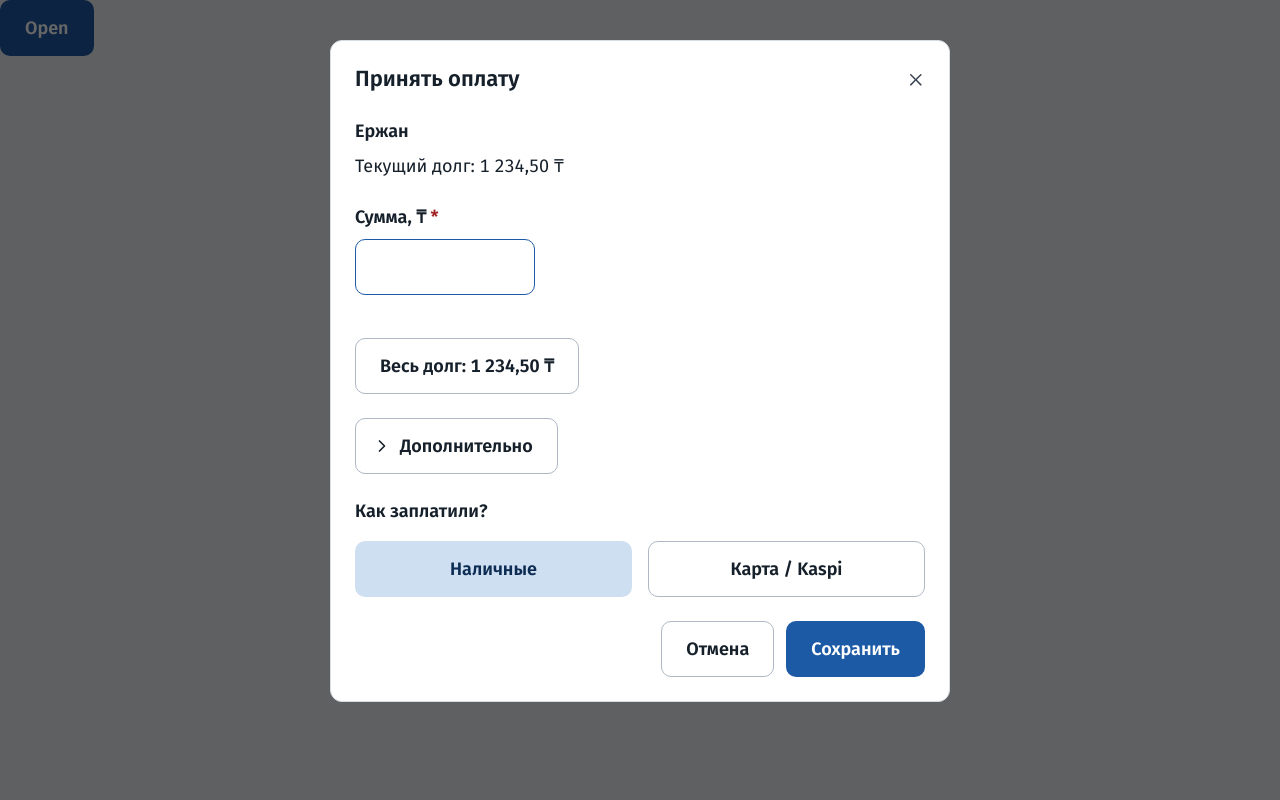
Test: PaymentModal › focuses the amount and fills the whole debt including tiyn
Step 1. Click the button "Весь долг: 1 234,50 ₸" → (467, 366), box [355,338,579,394]
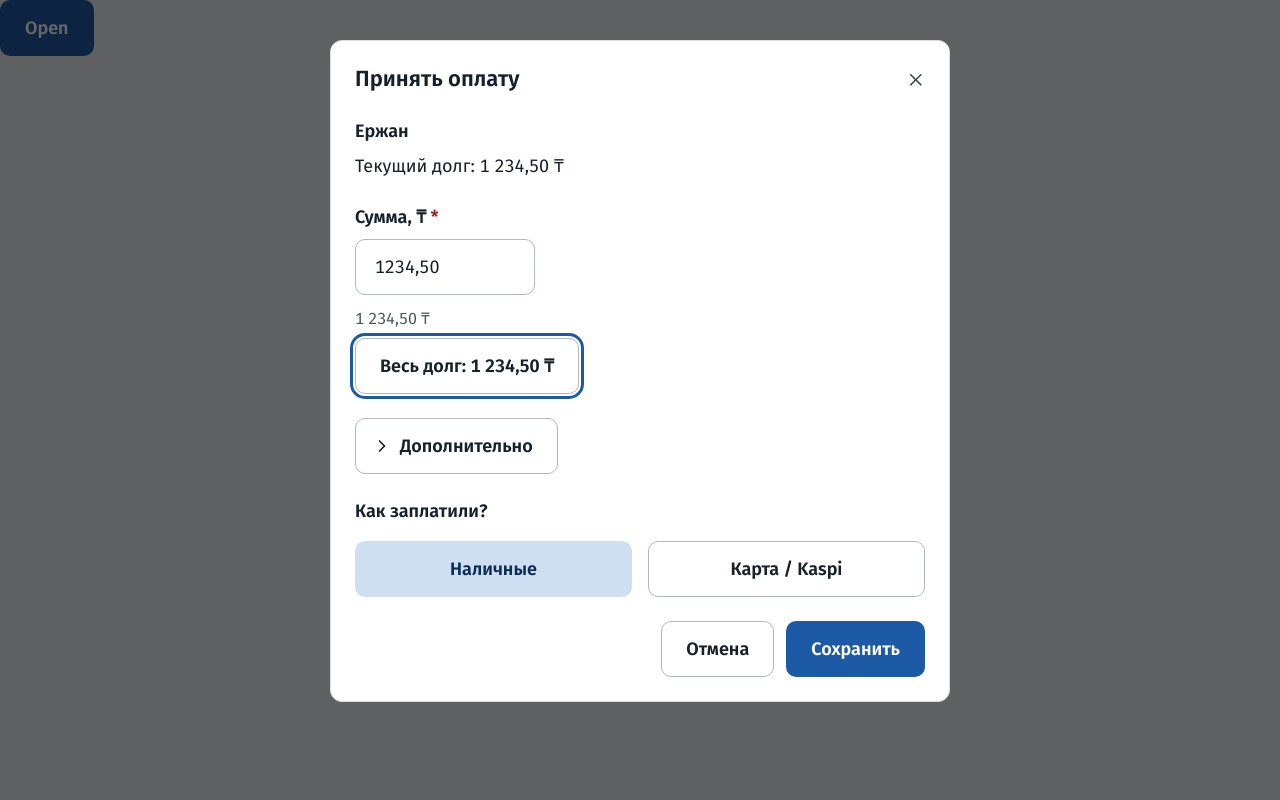
Expected: the field labelled "Сумма, ₸" holds "1234,50", [355,239,535,295]
